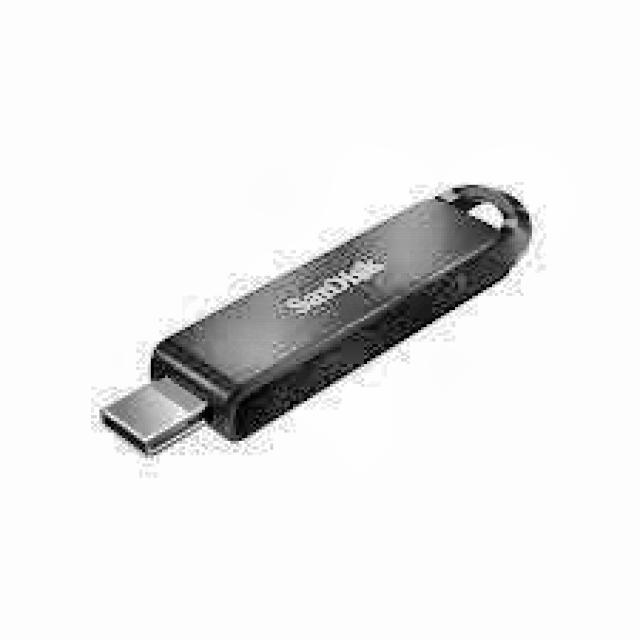Mug: (41, 138, 584, 503)
